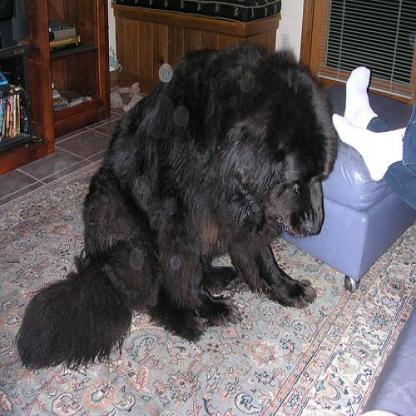Newfoundland: (10, 42, 339, 372)
